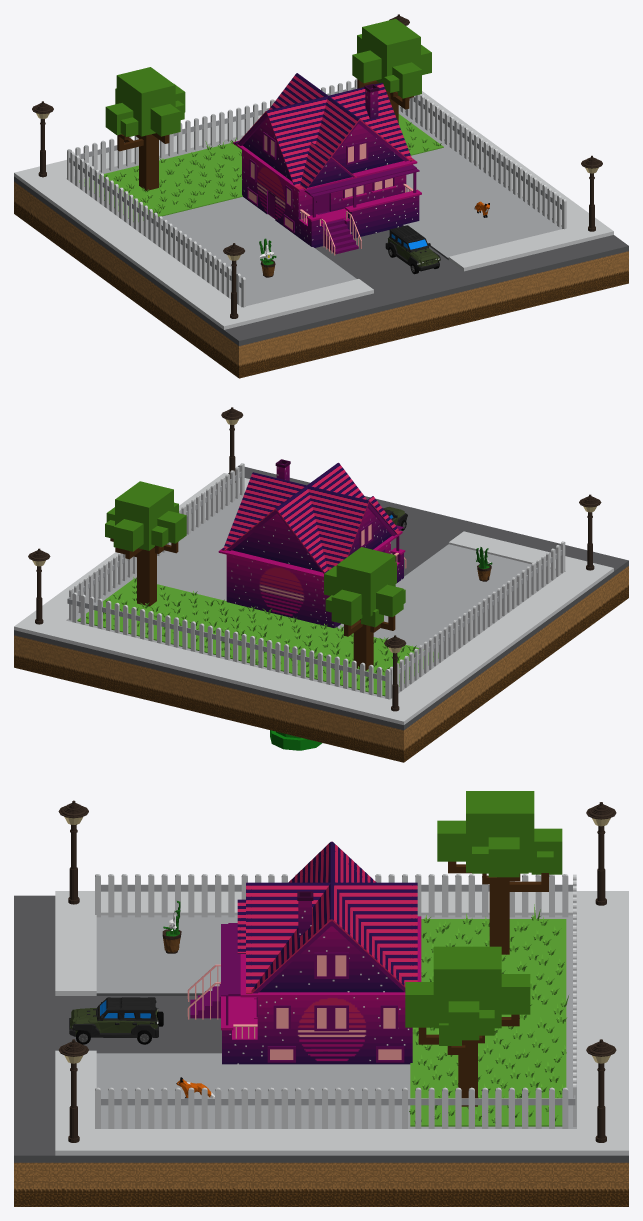
The picture shows the model from 3 angles, top to bottom: view 1: azimuth 30°, elevation 25°; view 2: azimuth 150°, elevation 25°; view 3: azimuth 270°, elevation 25°; orthographic projection. The views are drawn at different scales.
Parts seen in each view (by area): view 1: Cube.004, Cube.156, VEHICLES_JEEP; view 2: Cube.004, Cube.156, UNDERGROUND_PIPES; view 3: Cube.004, Cube.156, VEHICLES_JEEP, OBJRANDOM_MONJA BLANCA.
Part boxes in pixels (x1=…): Cube.004: x1=14, y1=14, x2=628, y2=378; Cube.156: x1=233, y1=73, x2=421, y2=255; VEHICLES_JEEP: x1=385, y1=225, x2=440, y2=274; Cube.004: x1=14, y1=407, x2=628, y2=762; Cube.156: x1=218, y1=459, x2=406, y2=627; UNDERGROUND_PIPES: x1=270, y1=730, x2=322, y2=750; Cube.004: x1=14, y1=791, x2=628, y2=1206; Cube.156: x1=187, y1=841, x2=421, y2=1064; VEHICLES_JEEP: x1=69, y1=997, x2=163, y2=1044; OBJRANDOM_MONJA BLANCA: x1=162, y1=901, x2=181, y2=953.
Size of the model in its own units: 4000 by 2184 by 4000.
33 materials, 5 textured.
